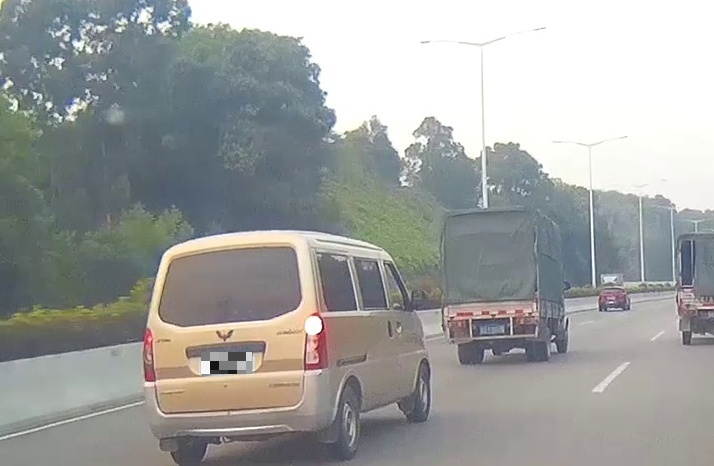L_light: (142, 328, 156, 382), (452, 321, 465, 328)
R_light: (303, 311, 327, 370), (520, 317, 535, 324)
T_light: (216, 251, 238, 255), (484, 301, 496, 304)
day-no: (440, 207, 539, 364)
day-right: (142, 230, 331, 466)
plate_1: (201, 352, 252, 374)
